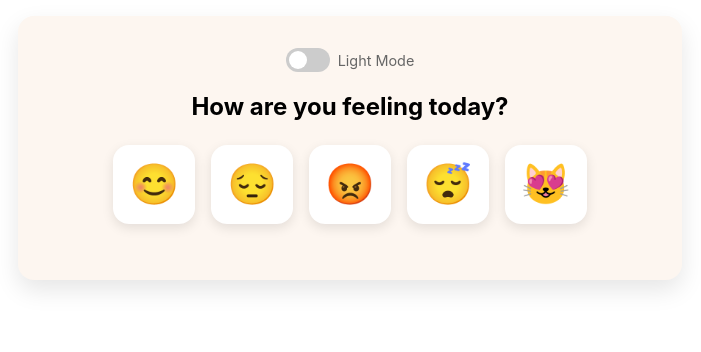
Scenario: MoodSelector › displays message when a mood is selected
Click the button named "Tired".
click(448, 184)  # box [407,145,489,224]
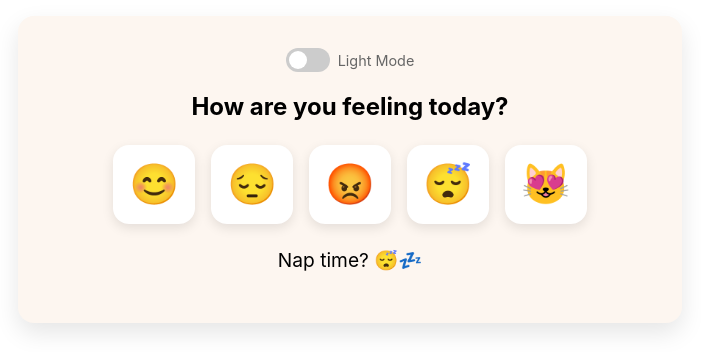
Check: the text "Nap time? 😴💤" is shown, box [278,248,422,272]
